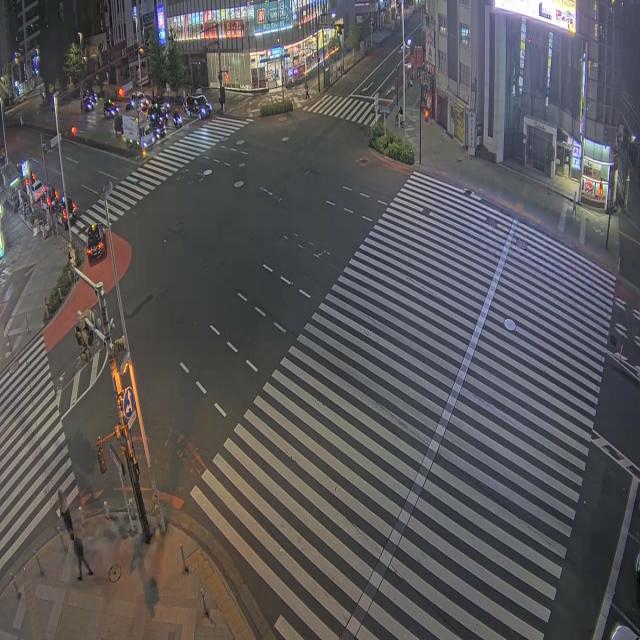car: (86, 224, 105, 261), (52, 203, 76, 229), (187, 96, 212, 119), (61, 195, 77, 223), (611, 625, 639, 639), (130, 92, 149, 110), (103, 99, 118, 118), (32, 181, 45, 201), (83, 89, 97, 106), (81, 97, 95, 112)
motorcycle: (173, 111, 182, 128)
truck: (122, 114, 155, 149)
